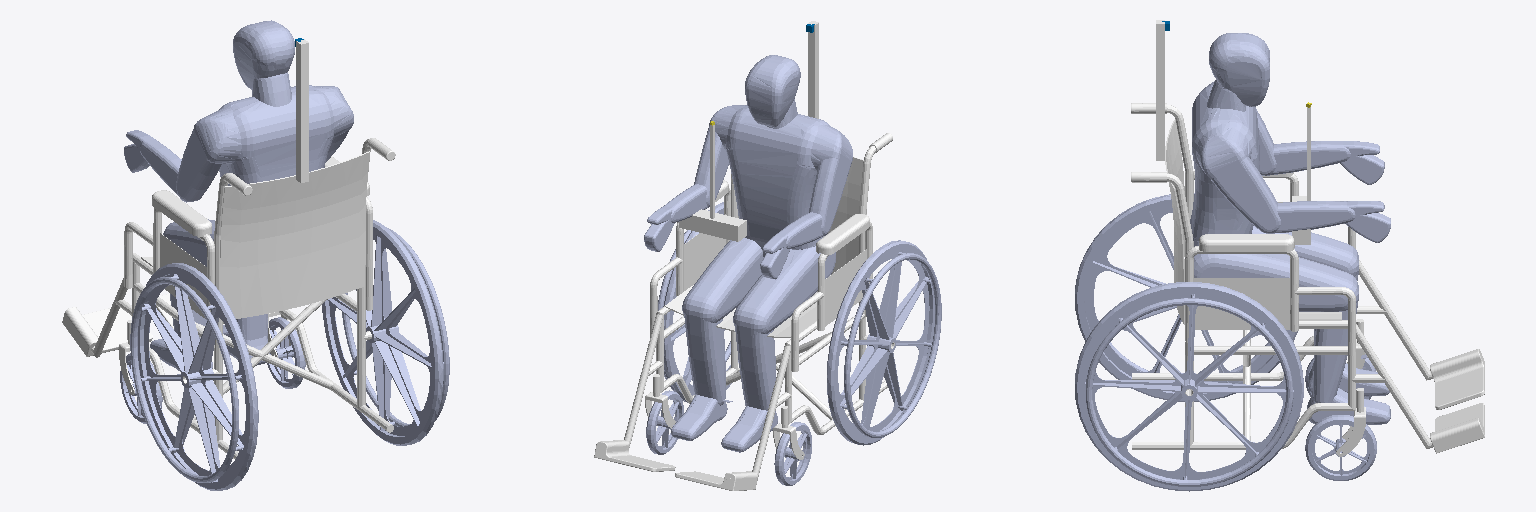
The robot description file, URDF, robot "wheeldiffdrive":
<?xml version="1.0" encoding="utf-8"?>
<robot name="wheeldiffdrive">


<!--                    DEFINING MATERIALS   -->
  <material name="blue">
    <color rgba="0 0 1 1"/>
  </material>

  <material name="white">
    <color rgba="1 1 1 1"/>
  </material>
<material name="red">
    <color rgba=" 0.5 0.2 0.8 1"/>
  </material>

<!--Defining the robot-->
<!--                      BASE LINK            -->
    <link
    name="base_link">
    <inertial>
      <origin
        xyz="0.215897452397763 -0.466115278224488 -0.406633769007423"
        rpy="0 0 0" />
      <mass
        value="1.16212370053717" />
      <inertia
        ixx="0.308297541964297"
        ixy="-3.58520428121968E-07"
        ixz="4.87684354694172E-06"
        iyy="0.323504290432657"
        iyz="-0.0485683019754604"
        izz="0.281374166804536" />
    </inertial>
    <visual>
      <origin
        xyz="0 0 0"
        rpy="0 0 0" />
      <geometry>
        <mesh
          filename="package://project_ws/meshes/chair_link.STL" />
      </geometry>
      <material
        name="">
        <color
          rgba="1 1 1 1" />
      </material>
    </visual>
    <collision>
      <origin
        xyz="0 0 0"
        rpy="0 0 0" />
      <geometry>
        <mesh
          filename="package://project_ws/meshes/chair_link.STL" />
      </geometry>
    </collision>
  </link>
    <gazebo reference="base_link">
    <material>Gazebo/Blue</material>
  </gazebo>

    
<!--                    RIGHT FRONT WHEEL                       -->
    <link
    name="right_front_wheel">
    <inertial>
      <origin
        xyz="3.68982622234171E-13 0 0"
        rpy="0 0 0" />
      <mass
        value="4.09127347260337" />
      <inertia
        ixx="0.00171792777524043"
        ixy="2.83050865876848E-20"
        ixz="-1.13478840286474E-19"
        iyy="0.000880037934920852"
        iyz="2.19202862326551E-20"
        izz="0.000880037934920852" />
    </inertial>
    <visual>
      <origin
        xyz="0 0 0"
        rpy="0 0 0" />
      <geometry>
        <mesh
          filename="package://project_ws/meshes/right_front_wheel_link.STL" />
      </geometry>
      <material
        name="">
        <color
          rgba="0.796078431372549 0.823529411764706 0.937254901960784 1" />
      </material>
    </visual>
    <collision>
      <origin
        xyz="0 0 0"
        rpy="0 0 0" />
      <geometry>
        <mesh
          filename="package://project_ws/meshes/right_front_wheel_link.STL" />
      </geometry>
    </collision>
  </link>
    <gazebo reference="right_front_wheel">
    <material>Gazebo/White</material>
  </gazebo>

    <!--                    RIGHT BACK WHEEL                       -->
    <link
    name="right_back_wheel">
    <inertial>
      <origin
        xyz="0.0469427212195542 0 5.55111512312578E-17"
        rpy="0 0 0" />
      <mass
        value="4.09127347260337" />
      <inertia
        ixx="0.141718020445608"
        ixy="2.73584332854114E-18"
        ixz="-4.77994102978222E-18"
        iyy="0.0710324578470619"
        iyz="2.49366499671666E-17"
        izz="0.0710324578470619" />
    </inertial>
    <visual>
      <origin
        xyz="0 0 0"
        rpy="0 0 0" />
      <geometry>
        <mesh
          filename="package://project_ws/meshes/right_back_wheel_link.STL" />
      </geometry>
      <material
        name="">
        <color
          rgba="0.796078431372549 0.823529411764706 0.937254901960784 1" />
      </material>
    </visual>
    <collision>
      <origin
        xyz="0 0 0"
        rpy="0 0 0" />
      <geometry>
        <mesh
          filename="package://project_ws/meshes/right_back_wheel_link.STL" />
      </geometry>
    </collision>
  </link>
    <gazebo reference="right_back_wheel">
    <material>Gazebo/White</material>
  </gazebo>

   <!--                    CAMERA LINK                     -->
    <link name="camera_link">
     <inertial>
      <mass value="0.1"/>
     <inertia ixx="1"  ixy="0"  ixz="0" iyy="1" iyz="0" izz="1" />
   </inertial>

   <visual>
     
     <geometry>
       <box   size= "0.01 0.01 0.01"/>
     </geometry>
     <material name="green">
     </material>
   </visual>

   <collision>
     
     <geometry>
       <box   size= "0.01 0.01 0.01"/>
     </geometry>
   </collision>
    </link>

    <gazebo reference="camera_link">
    <material>Gazebo/Red</material>
  </gazebo>

    <!--                    LASER LINK                     -->
    <link name="laser_link">
     <inertial>
      <mass value="0.1"/>
     <inertia ixx="1"  ixy="0"  ixz="0" iyy="1" iyz="0" izz="1" />
   </inertial>

   <visual>
     
     <geometry>
       <box   size= "0.02 0.02 0.02"/>
     </geometry>
     <material name="green">
     </material>
   </visual>

   <collision>
     
     <geometry>
       <box   size= "0.02 0.02 0.02"/>
     </geometry>
   </collision>
    </link>
    
    <gazebo reference="laser_link">
    <material>Gazebo/Red</material>
  </gazebo>



    <!--                    LEFT FRONT WHEEL                       -->
    <link
    name="left_front_wheel">
    <inertial>
      <origin
        xyz="3.68919128075658E-13 1.11022302462516E-16 -1.11022302462516E-16"
        rpy="0 0 0" />
      <mass
        value="4.09127347260337" />
      <inertia
        ixx="0.00171792777524043"
        ixy="-3.04628631784685E-20"
        ixz="-4.66323070387447E-20"
        iyy="0.000880037934920854"
        iyz="-9.93650710829319E-20"
        izz="0.000880037934920854" />
    </inertial>
    <visual>
      <origin
        xyz="0 0 0"
        rpy="0 0 0" />
      <geometry>
        <mesh
          filename="package://project_ws/meshes/left_front_wheel_link.STL" />
      </geometry>
      <material
        name="">
        <color
          rgba="0.796078431372549 0.823529411764706 0.937254901960784 1" />
      </material>
    </visual>
    <collision>
      <origin
        xyz="0 0 0"
        rpy="0 0 0" />
      <geometry>
        <mesh
          filename="package://project_ws/meshes/left_front_wheel_link.STL" />
      </geometry>
    </collision>
  </link>
    <gazebo reference="left_front_wheel">
    <material>Gazebo/White</material>
    </gazebo>
    
        <!--                    LEFT BACK WHEEL                       -->
    <link
    name="left_back_wheel">
    <inertial>
      <origin
        xyz="0.0469427212195542 5.55111512312578E-17 0"
        rpy="0 0 0" />
      <mass
        value="4.09127347260337" />
      <inertia
        ixx="0.141718020445608"
        ixy="-7.69093859733278E-19"
        ixz="-3.91372571951635E-18"
        iyy="0.0710324578470619"
        iyz="-4.85722573273506E-17"
        izz="0.071032457847062" />
    </inertial>
    <visual>
      <origin
        xyz="0 0 0"
        rpy="0 0 0" />
      <geometry>
        <mesh
          filename="package://project_ws/meshes/left_back_wheel_link.STL" />
      </geometry>
      <material
        name="">
        <color
          rgba="0.796078431372549 0.823529411764706 0.937254901960784 1" />
      </material>
    </visual>
    <collision>
      <origin
        xyz="0 0 0"
        rpy="0 0 0" />
      <geometry>
        <mesh
          filename="package://project_ws/meshes/left_back_wheel_link.STL" />
      </geometry>
    </collision>
  </link>
  <gazebo reference="left_back_wheel">
    <material>Gazebo/White</material>
  </gazebo>

      <!--       CAMERA HOLDER        -->
    <link name="camera_holder">
    <visual>
      <geometry>
        <box size="0.2 0.05 0.05"/>
      </geometry>
      <material name="white"/>
    </visual>
    <collision>
      <geometry>
        <box size="0.2 0.05 0.05"/>
      </geometry>
    </collision>
    <inertial>
      <mass value="0.01"/>
      <inertia ixx="1.0" ixy="0.0" ixz="0.0" iyy="1.0" iyz="0.0" izz="1.0"/>
    </inertial>
  </link>
  <gazebo reference="camera_holder">
    <material>Gazebo/Blue</material>
  </gazebo>

      <!--       LASER HOLDER        -->

    <link name="laser_holder">
    <visual>
      <geometry>
        <box size="0.4 0.025 0.025"/>
      </geometry>
      <origin rpy="0 1.57075 0" xyz="0 0 -0.3"/>
      <material name="white"/>
    </visual>
    <collision>
      <geometry>
        <box size="0.4 0.025 0.025"/>
      </geometry>
      <origin rpy="0 1.57075 0" xyz="0 0 -0.3"/>
    </collision>
    <inertial>
      <mass value="0.01"/>
      <inertia ixx="1.0" ixy="0.0" ixz="0.0" iyy="1.0" iyz="0.0" izz="1.0"/>
    </inertial>
  </link>
  <gazebo reference="laser_holder">
    <material>Gazebo/Blue</material>
  </gazebo>

        <!--       MAN LINK        -->
  <link
    name="man_sitting_link">
    <inertial>
      <origin
        xyz="-3.179E-05 -0.11481 -0.1411"
        rpy="0 0 0" />
      <mass
        value="1" />
      <inertia
        ixx="13.785"
        ixy="-0.012446"
        ixz="-0.0029163"
        iyy="12.533"
        iyz="3.4808"
        izz="4.9919" />
    </inertial>
    <visual>
      <origin
        xyz="0 0 0"
        rpy="1.5707963267949 0 0" />
      <geometry>
        <mesh
          filename="package://project_ws/meshes/Man_Sitting.STL" />
      </geometry>
      <material
        name="">
        <color
          rgba="0.79216 0.81961 0.93333 1" />
      </material>
    </visual>
    <collision>
      <origin
        xyz="0 0 0"
        rpy="1.5707963267949 0 0" />
      <geometry>
        <mesh
          filename="package://project_ws/meshes/Man_Sitting.STL" />
      </geometry>
    </collision>
  </link>
  <gazebo reference="man_sitting">
    <material>Gazebo/Pink</material>
  </gazebo>

  <!--       CAMERA HOLDER 2        -->

    <link name="camera_holder_two">
    <visual>
      <geometry>
        <box size="0.30 0.01 0.01"/>
      </geometry>
      <origin rpy="0 1.57075 0" xyz="0 0 -0.3"/>
      <material name="white"/>
    </visual>
    <collision>
      <geometry>
        <box size="0.30 0.01 0.01"/>
      </geometry>
      <origin rpy="0 1.57075 0" xyz="0 0 -0.3"/>
    </collision>
    <inertial>
      <mass value="0.01"/>
      <inertia ixx="1.0" ixy="0.0" ixz="0.0" iyy="1.0" iyz="0.0" izz="1.0"/>
    </inertial>
  </link>
  <gazebo reference="camera_holder_two">
    <material>Gazebo/Blue</material>
  </gazebo>
        <!--                              JOINTS             -->
    <!--           JOINT BASE TO RIGHT FRONT WHEEL       -->

    <joint name="joint_base_to_right_front_wheel" type="continuous">
    <origin
      xyz="0.4318 0.55563 -0.79375"
      rpy="1.5708 0 3.1416" />
    <axis xyz="1 0 0" rpy="0 0 0" />  
    <parent link="base_link"/>
    <child link="right_front_wheel"/>
    </joint>

        <!--           JOINT BASE TO RIGHT BACK WHEEL  -->
    <joint name="joint_base_to_right_back_wheel" type="continuous">
    <origin
      xyz="0.4572 0.1524 -0.5842"
      rpy="1.5316 0 0" />
    <axis xyz="-1 0 0"  rpy="0 0 0"/>  
    <parent link="base_link"/> 
    <child link="right_back_wheel"/>
    </joint>

      <!--           JOINT BASE TO LEFT FRONT WHEEL  -->

    <joint name="joint_base_to_left_front_wheel" type="continuous">
    <origin
      xyz="0 0.55563 -0.79375"
      rpy="1.5708 0 3.1416" />
    <axis xyz="1 0 0" rpy="0 0 0" />  
    <parent link="base_link"/>
    <child link="left_front_wheel"/>
    </joint>

        <!--           JOINT BASE TO CAMERA    -->
    <joint name="joint_base_to_camera_link" type="fixed">
    <origin xyz="0.322 0.47 0.16" rpy ="0 -0.17 4.2 "/>
    <parent link="base_link"/>
    <child link="camera_link"/>
    </joint>

    <!--           JOINT BASE TO LASER    -->
    <joint name="joint_base_to_laser_link" type="fixed">
    <origin xyz="0.21 0.09 0.34" rpy ="0 0 -4.712 "/>
    <parent link="base_link"/>
    <child link="laser_link"/>
    </joint>

      <!--           JOINT BASE TO LEFT BACK WHEEL    -->
    <joint name="joint_base_to_left_back_wheel" type="continuous">
    <origin
      xyz="-0.0254 0.1524 -0.5842"
      rpy="2.7498 0 3.1416" />
    <axis xyz="1 0 0" rpy="0 0 0" />  
    <parent link="base_link"/>
    <child link="left_back_wheel"/>
    </joint>

      <!--     JOINT BASE TO CAMERA HOLDER         -->
  
  <joint name="camera_holder_joint" type="fixed">
    <parent link="base_link"/>
    <child link="camera_holder"/>
    <origin xyz="0.3318 0.45 -0.17375"/>
  </joint>

      <!--     JOINT BASE TO LASER HOLDER         -->

  <joint name="laser_holder_joint" type="fixed">
    <parent link="base_link"/>
    <child link="laser_holder"/>
    <origin xyz="0.21 0.075 0.45"/>
  </joint>

      <!--     JOINT MAN          -->

  <joint name="man_sitting_joint" type="fixed">
    <parent link="base_link"/>
    <child link="man_sitting_link"/>
    <origin xyz="0.22 0.22 -0.07" rpy ="0 0 -3.1415926 "/>
  </joint>

  <!--     JOINT BASE TO CAMERA HOLDER 2         -->

  <joint name="camera_holder_two_joint" type="fixed">
    <parent link="camera_holder"/>
    <child link="camera_holder_two"/>
    <origin xyz="-0.01 0.020 0.48"/>
  </joint>
  

<!--                    CAMERA  PLUGIN                 -->
      <gazebo reference="camera_link">
    <sensor type="depth" name="camera">       
      <always_on>true</always_on>
      <visualize>true</visualize>             
      <camera>
          <horizontal_fov>1.047</horizontal_fov>
          <image>
              <width>640</width>
              <height>480</height>
              <format>R8G8B8</format>
          </image>
          <depth_camera>

          </depth_camera>
          <clip>
              <near>0.1</near>
              <far>100</far>
          </clip>
      </camera>
      <plugin name="camera_controller" filename="libgazebo_ros_openni_kinect.so">
          <baseline>0.2</baseline>
          <alwaysOn>true</alwaysOn>
              <updateRate>10.0</updateRate>
              <cameraName>camera</cameraName>
              <frameName>camera_link</frameName>                   
          <imageTopicName>rgb/image_raw</imageTopicName>
          <depthImageTopicName>depth/image_raw</depthImageTopicName>
          <pointCloudTopicName>depth/points</pointCloudTopicName>
          <cameraInfoTopicName>rgb/camera_info</cameraInfoTopicName>              
          <depthImageCameraInfoTopicName>depth/camera_info</depthImageCameraInfoTopicName>            
          <pointCloudCutoff>0.4</pointCloudCutoff>                
              <hackBaseline>0.07</hackBaseline>
              <distortionK1>0.0</distortionK1>
              <distortionK2>0.0</distortionK2>
              <distortionK3>0.0</distortionK3>
              <distortionT1>0.0</distortionT1>
              <distortionT2>0.0</distortionT2>
          <CxPrime>0.0</CxPrime>
          <Cx>0.0</Cx>
          <Cy>0.0</Cy>
          <focalLength>0.0</focalLength>
          </plugin>
    </sensor>
  </gazebo>

<!--                        LASER PLUGIN                  -->
<gazebo reference="laser_link">
    <sensor type="ray" name="head_hokuyo_sensor">
      <pose>0 0 0 0 0 0</pose>
      <visualize>true</visualize>
      <update_rate>40</update_rate>
      <ray>
        <scan>
          <horizontal>
            <samples>720</samples>
            <resolution>1</resolution>
            <min_angle>-1.570796</min_angle>
            <max_angle>1.570796</max_angle>
          </horizontal>
        </scan>
        <range>
          <min>0.10</min>
          <max>5.0</max>
          <resolution>0.01</resolution>
        </range>
        <noise>
          <type>gaussian</type>
         
          <mean>0.0</mean>
          <stddev>0.01</stddev>
        </noise>
      </ray>
      <plugin name="gazebo_ros_head_hokuyo_controller" filename="libgazebo_ros_laser.so">
        <topicName>/vehiclediffdrive/laser/scan</topicName>
        <frameName>laser_link</frameName>
      </plugin>
    </sensor>
  </gazebo>



<!--                       ROS CONTROL      -->
<!--gazebo>
  <plugin name="skid_steer_drive_controller" filename="libgazebo_ros_skid_steer_drive.so">
    <updateRate>100.0</updateRate>
    <robotNamespace>vehiclediffdrive</robotNamespace> 
    <leftFrontJoint>joint_base_to_left_front_wheel</leftFrontJoint>
    <rightFrontJoint>joint_base_to_right_front_wheel</rightFrontJoint>
    <leftRearJoint>joint_base_to_left_back_wheel</leftRearJoint>
    <rightRearJoint>joint_base_to_right_back_wheel</rightRearJoint>
    <wheelSeparation>0.2</wheelSeparation>
    <wheelDiameter>0.14</wheelDiameter>
    <robotBaseFrame>base_link</robotBaseFrame>
    <torque>20</torque>
    <commandTopic>cmd_vel</commandTopic>
    <broadcastTF>true</broadcastTF>
  </plugin>
</gazebo-->
<gazebo>
    <plugin name="differential_drive_controller" filename="libgazebo_ros_diff_drive.so">
        <alwaysOn>true</alwaysOn>
        <updateRate>100.0</updateRate>
        <robotNamespace>vehiclediffdrive</robotNamespace>
        <legacyMode>false</legacyMode>
        <leftJoint>joint_base_to_left_back_wheel</leftJoint>
        <rightJoint>joint_base_to_right_back_wheel</rightJoint>
        <wheelSeparation>0.2</wheelSeparation>
        <wheelDiameter>0.14</wheelDiameter>
        <torque>20</torque>
        <commandTopic>cmd_vel</commandTopic>
        <odometryTopic>odom</odometryTopic>
        <odometryFrame>odom</odometryFrame>
        <robotBaseFrame>base_link</robotBaseFrame>
        <publishWheelTF>false</publishWheelTF>
        <publishWheelJointState>true</publishWheelJointState>
        <rosDebugLevel>na</rosDebugLevel>
        <wheelAcceleration>0</wheelAcceleration>
        <wheelTorque>5</wheelTorque>
        <odometrySource>world</odometrySource>
        <publishTf>1</publishTf> 
    </plugin>
</gazebo>
</robot>

--- What the picture shows (computed from the rendered views, not written in the file) ---
3 views of the same robot in one strip: view 1: azimuth 30°, elevation 25°; view 2: azimuth 150°, elevation 25°; view 3: azimuth 270°, elevation 25° (orthographic).
Robot: wheeldiffdrive — 11 links, 10 joints (4 continuous, 6 fixed); root link base_link; default pose: every joint at zero.
Links seen in each view (by area): view 1: base_link, man_sitting_link, left_back_wheel, right_back_wheel, laser_holder, right_front_wheel, left_front_wheel; view 2: man_sitting_link, base_link, left_back_wheel, right_back_wheel, left_front_wheel, camera_holder, right_front_wheel, laser_holder; view 3: man_sitting_link, base_link, right_back_wheel, left_back_wheel, right_front_wheel, laser_holder.
Link boxes in pixels (<box>): base_link: <box>62,138,395,458</box>; man_sitting_link: <box>124,20,353,371</box>; left_back_wheel: <box>130,263,258,490</box>; right_back_wheel: <box>322,220,449,445</box>; laser_holder: <box>296,39,308,182</box>; right_front_wheel: <box>267,317,305,388</box>; left_front_wheel: <box>120,353,162,423</box>; man_sitting_link: <box>644,55,852,452</box>; base_link: <box>594,133,894,490</box>; left_back_wheel: <box>827,240,941,445</box>; right_back_wheel: <box>658,202,739,402</box>; left_front_wheel: <box>774,422,811,485</box>; camera_holder: <box>679,209,746,241</box>; right_front_wheel: <box>646,390,683,454</box>; laser_holder: <box>808,21,818,118</box>; man_sitting_link: <box>1190,33,1390,424</box>; base_link: <box>1131,103,1484,456</box>; right_back_wheel: <box>1075,282,1303,491</box>; left_back_wheel: <box>1075,193,1297,401</box>; right_front_wheel: <box>1305,415,1376,480</box>; laser_holder: <box>1156,20,1164,160</box>.
Size in the robot's own frame: 0.6541 by 1.09 by 1.24 metres.
Meshes: 6 distinct files referenced, 6 mesh visuals loaded (6 binary STL).
